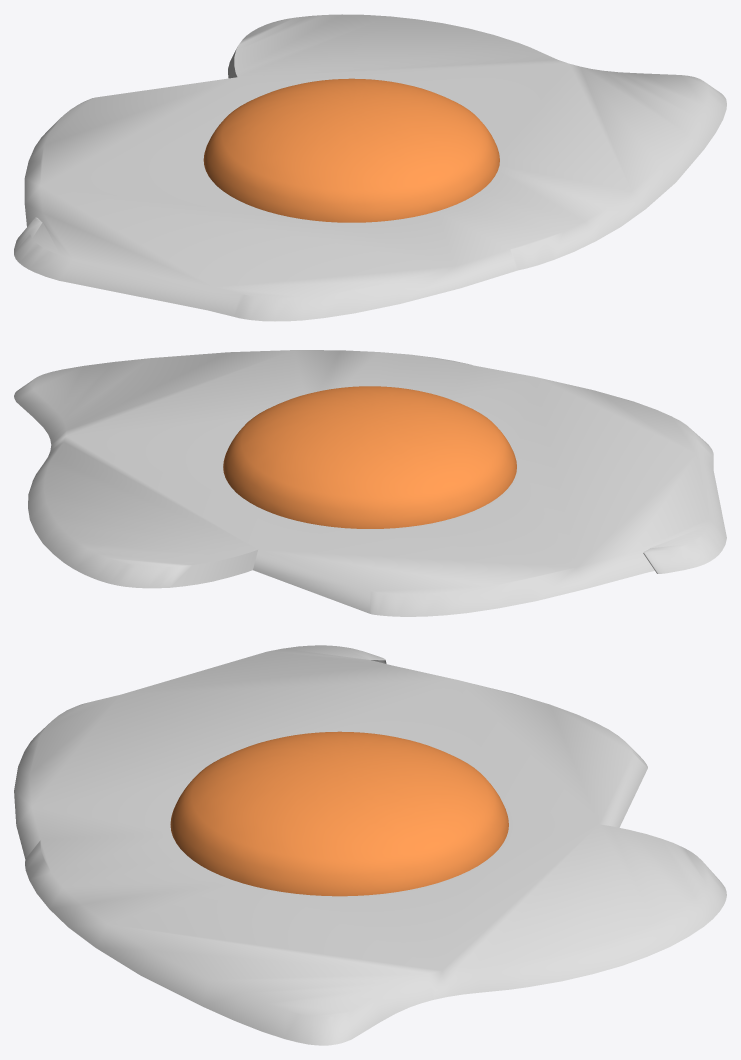
Rendered from egg_brokenDraco.glb.
3 views of the same model, one above another, from view 1: azimuth 30°, elevation 25°; view 2: azimuth 150°, elevation 25°; view 3: azimuth 270°, elevation 25° (orthographic). The views are drawn at different scales.
Visible parts, largest first — view 1: Object_3, Object_2; view 2: Object_3, Object_2; view 3: Object_3, Object_2.
Part boxes in pixels (<box>): Object_3: <box>14,14,726,321</box>; Object_2: <box>203,78,499,222</box>; Object_3: <box>14,350,726,616</box>; Object_2: <box>223,386,516,528</box>; Object_3: <box>14,645,726,1045</box>; Object_2: <box>170,731,508,896</box>.
Size of the model in its own units: 223 by 21 by 172.
